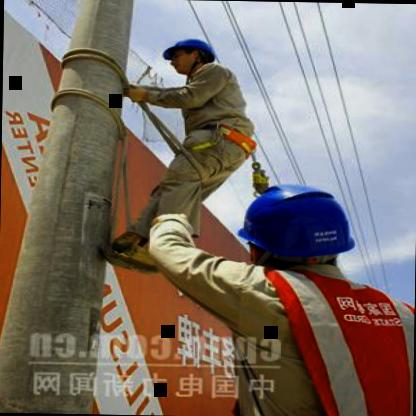helmet: (223, 172, 368, 292), (157, 26, 222, 78)
